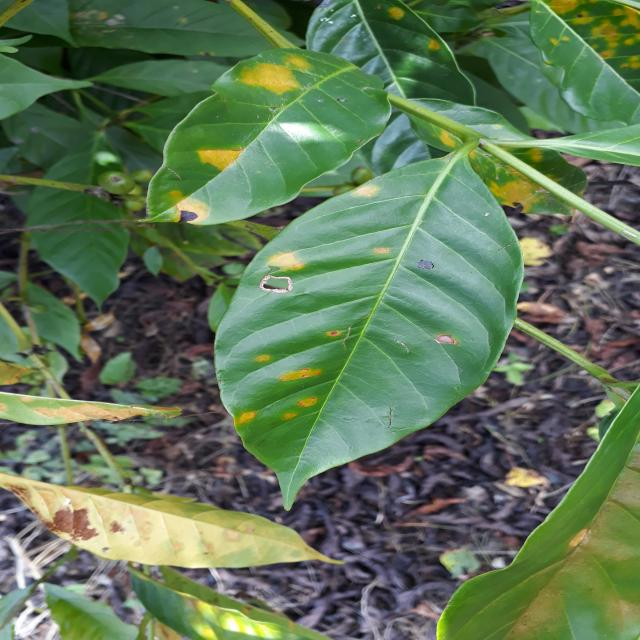Enfermedad-Roya: (216, 157, 525, 508)
